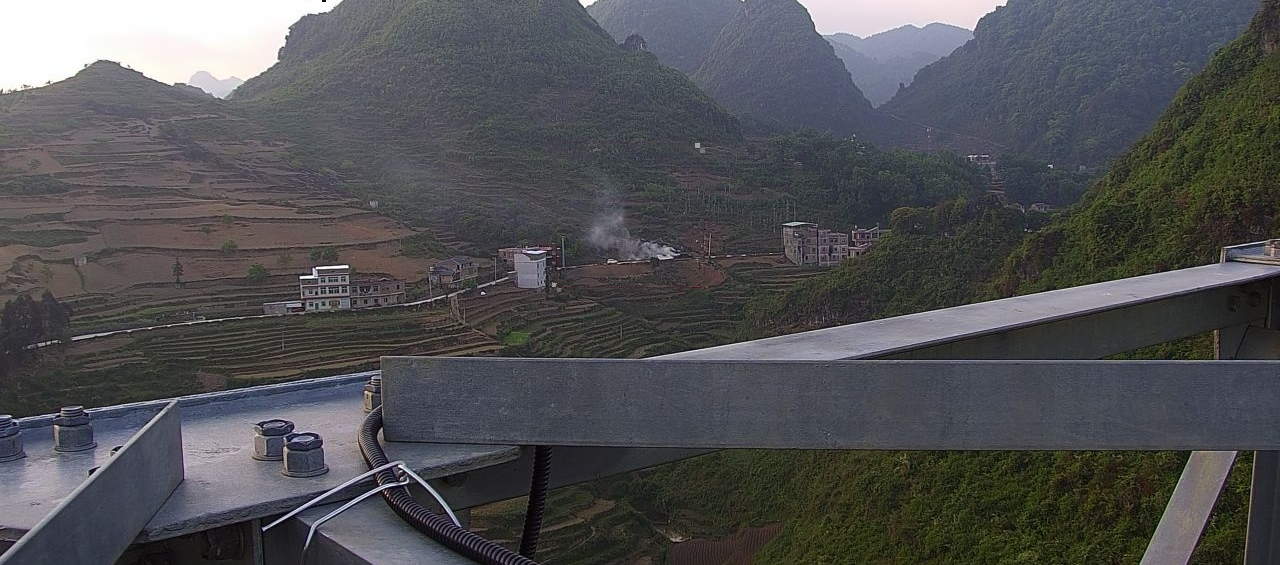烟雾: (374, 134, 681, 261)
